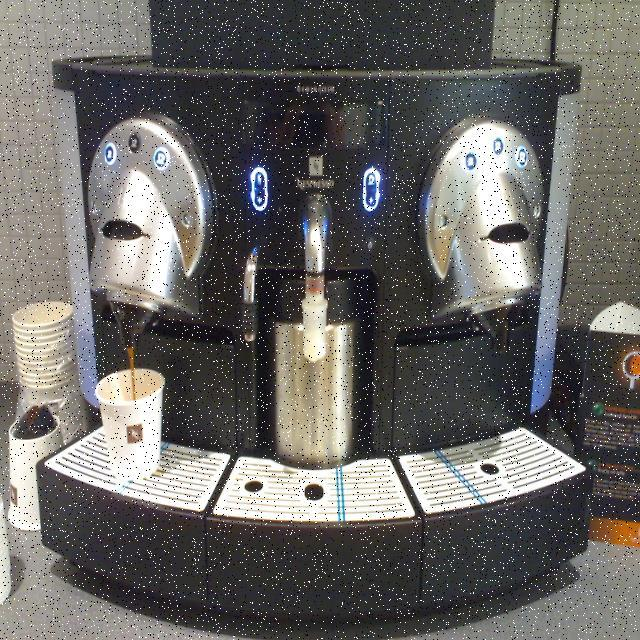Coffee-Machine: (30, 1, 600, 612)
